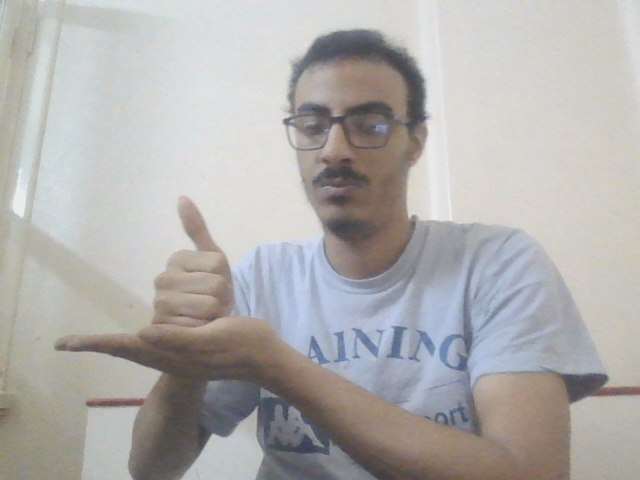Help: (48, 190, 288, 389)
